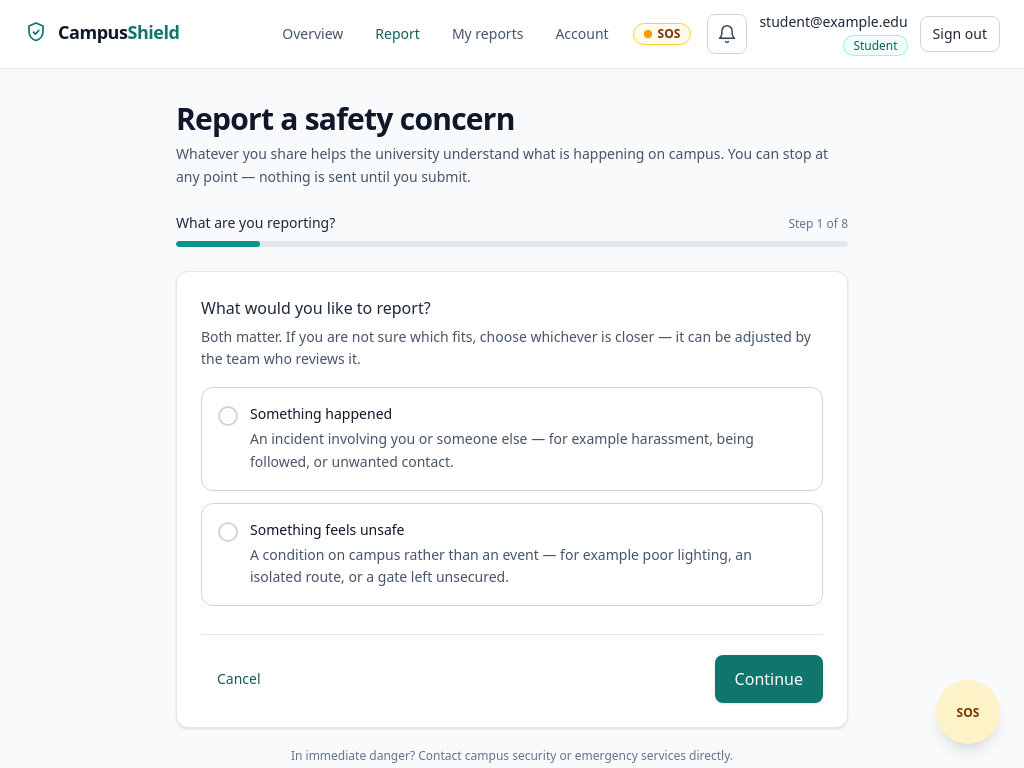
ReportPage — required fields › requires a time
Expected: the heading "Report a safety concern" is shown, x1=176 y1=98 x2=515 y2=139
Click the radio button labelled "Something happened": (512, 439) x1=201 y1=387 x2=823 y2=490
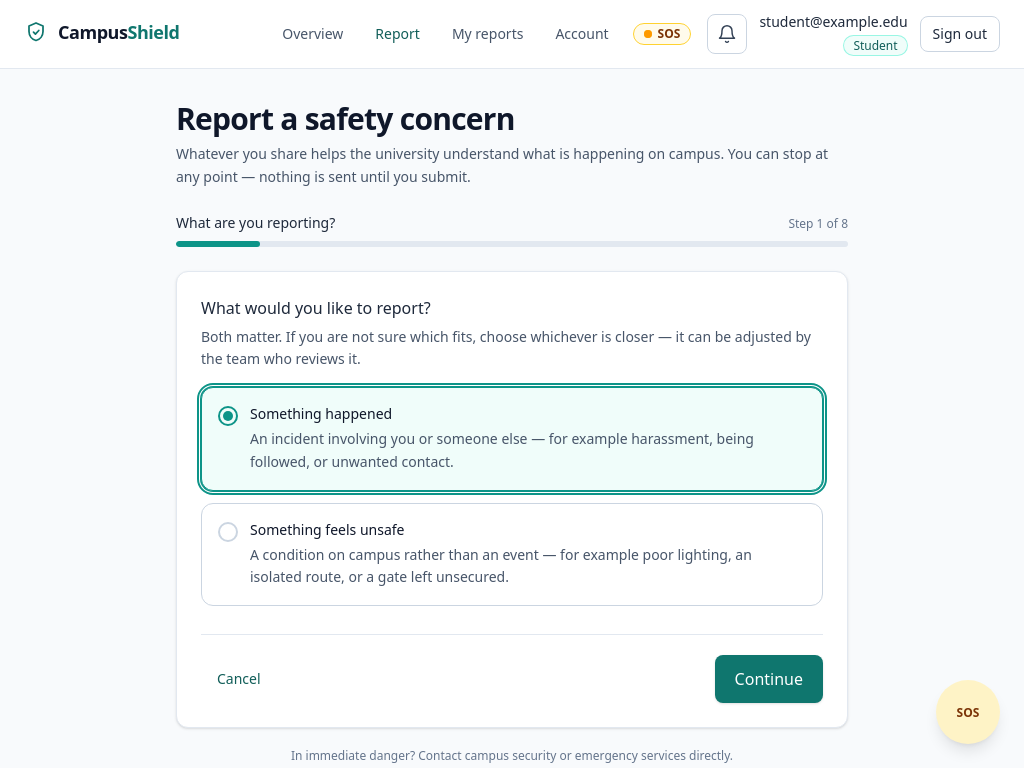
Click the button "Continue": (769, 679) x1=715 y1=655 x2=823 y2=703
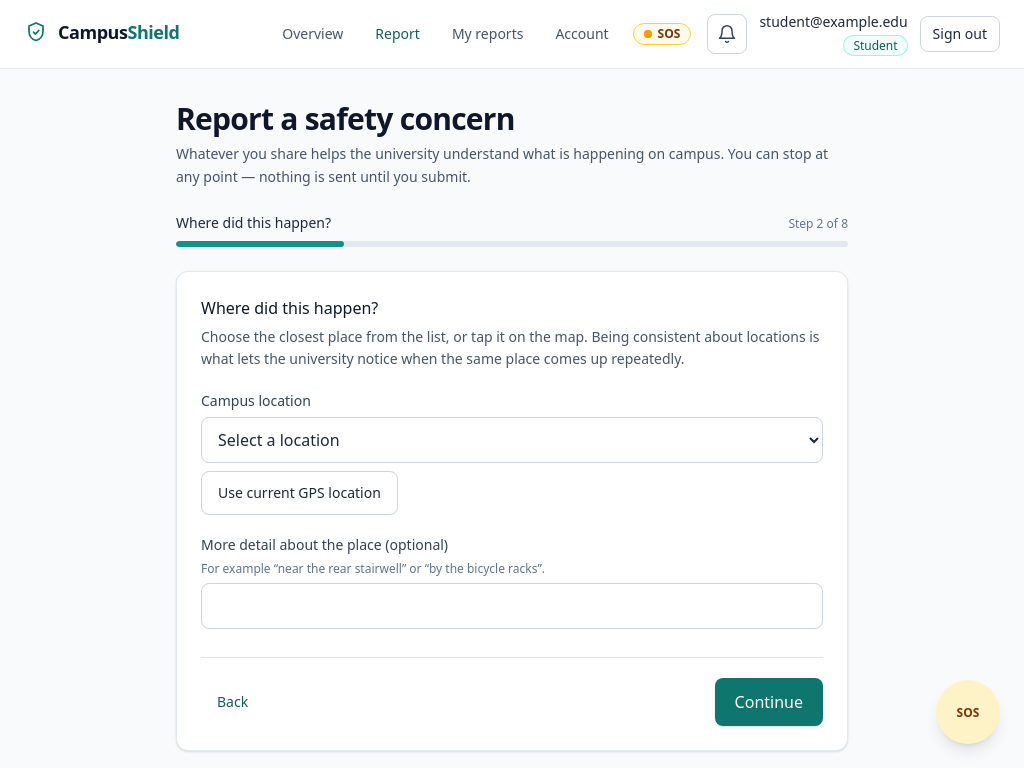
Select "Library & Knowledge Resource Centre" in the dropdown labelled "Campus location": (512, 440) x1=201 y1=417 x2=823 y2=463
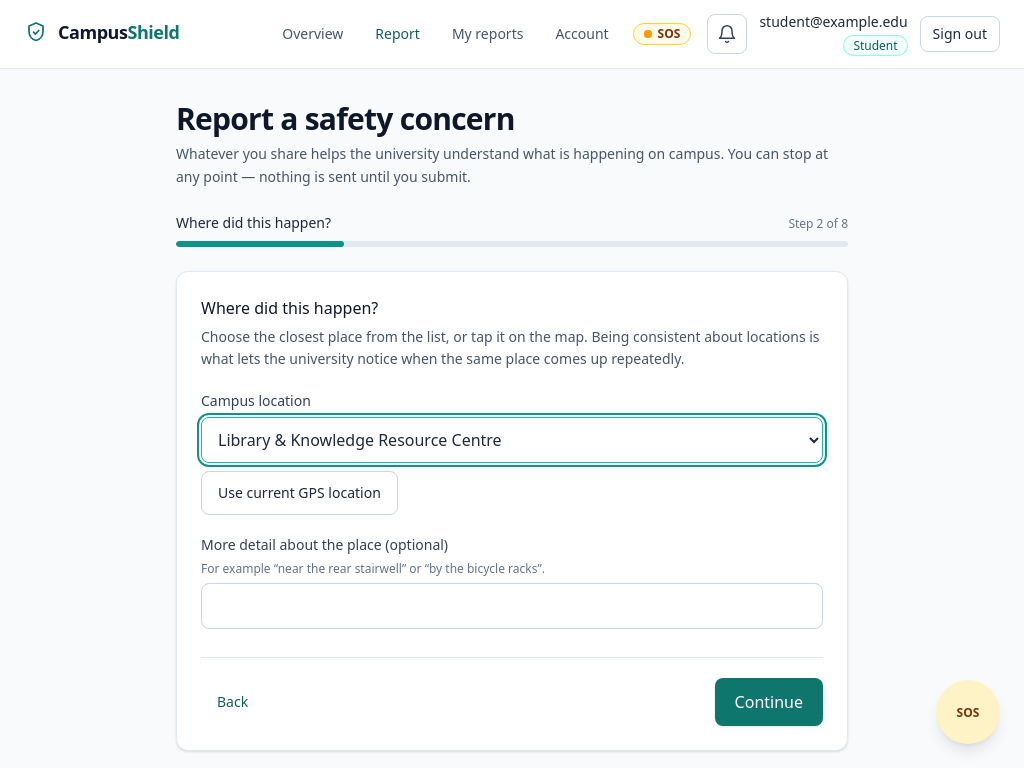
Click the button "Continue": (769, 702) x1=715 y1=678 x2=823 y2=726
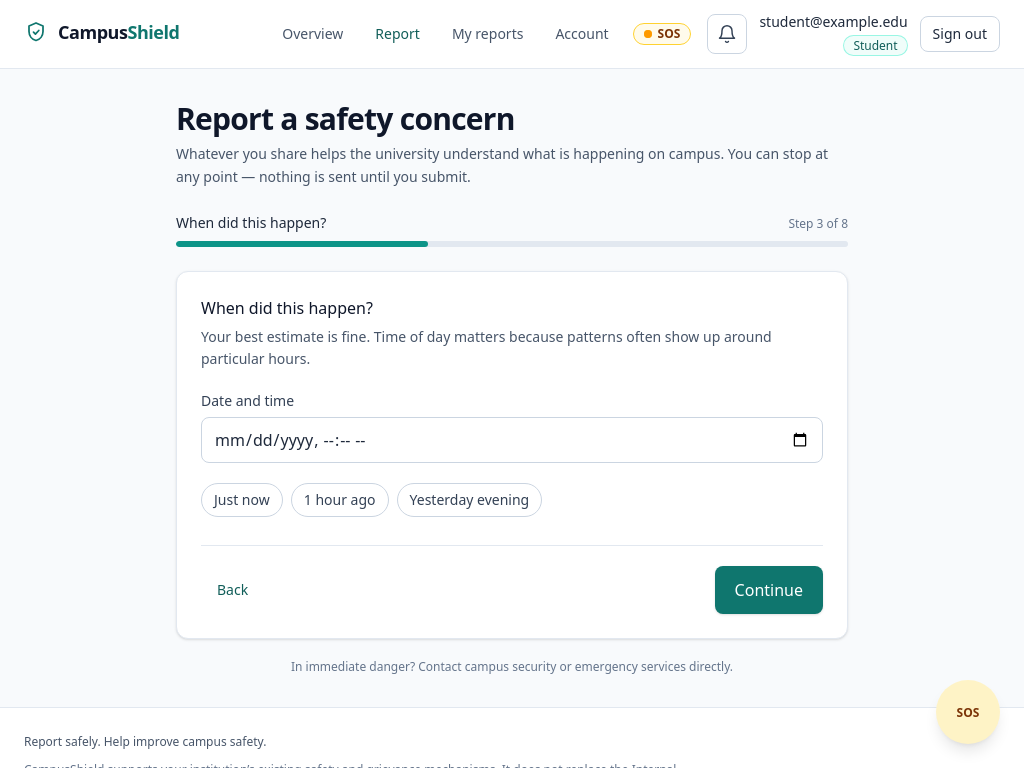
Result: the field labelled "Date and time" is shown at x1=201 y1=417 x2=823 y2=463
Click the button "Continue": (769, 590) x1=715 y1=566 x2=823 y2=614
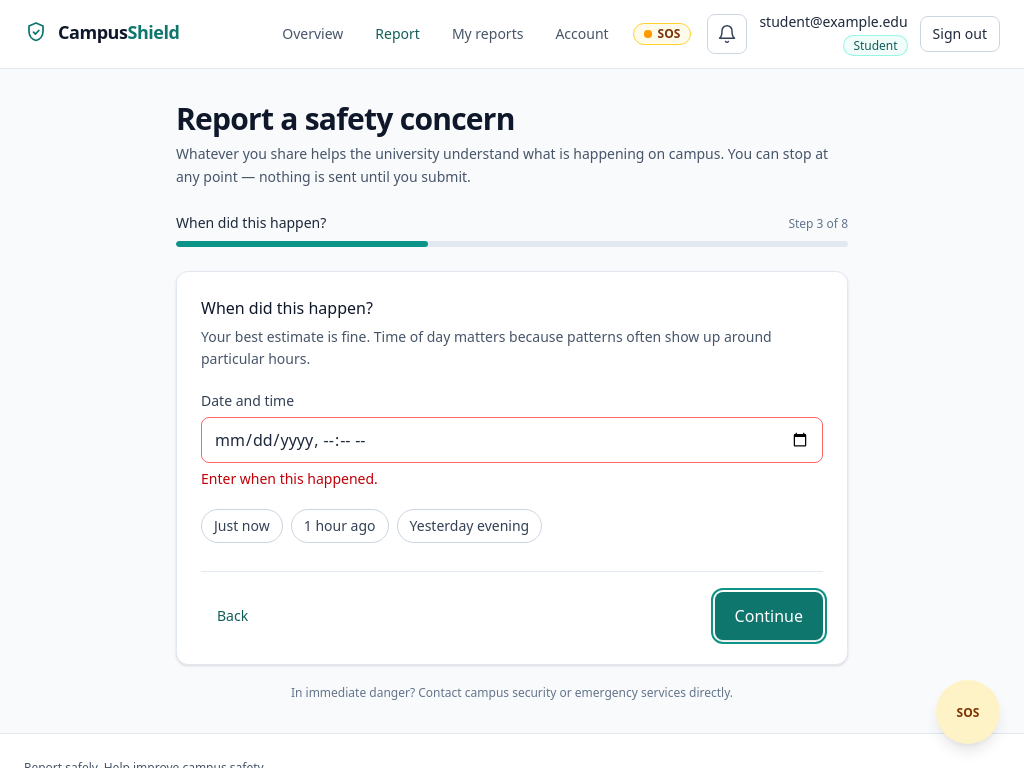
Result: the text "Enter when this happened." is shown at x1=201 y1=469 x2=378 y2=488
